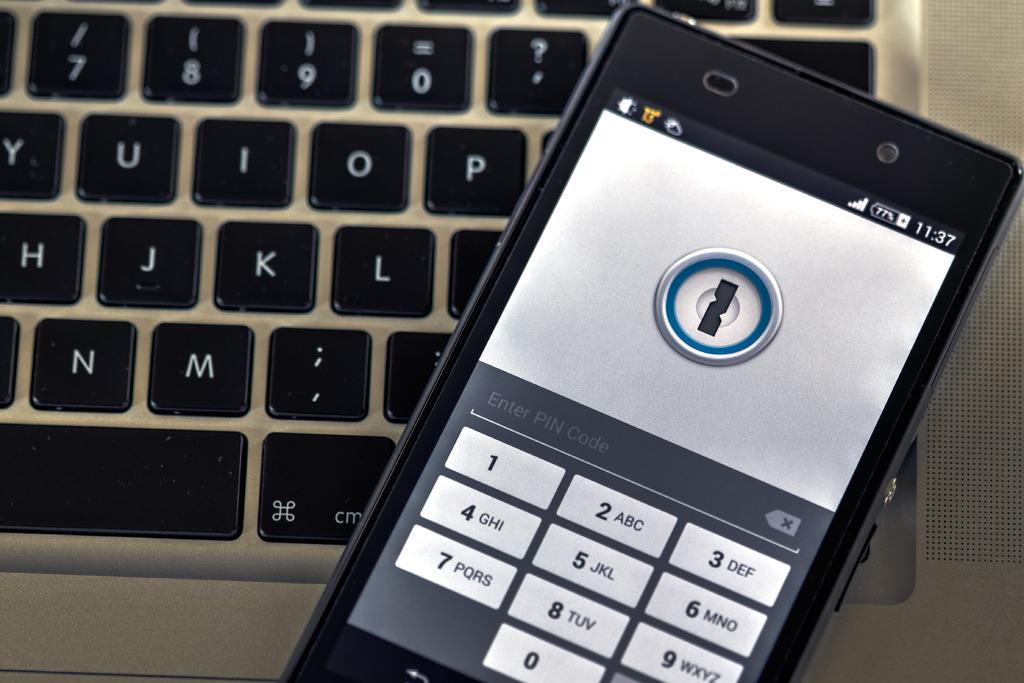Computer-keyboard: (0, 0, 877, 567)
